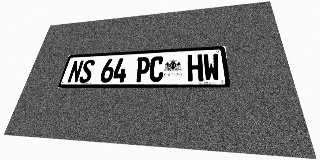4: (112, 58, 129, 82)
6: (99, 58, 116, 83)
C: (149, 56, 164, 82)
H: (187, 54, 204, 81)
N: (67, 60, 84, 83)
P: (134, 57, 150, 82)
S: (78, 59, 96, 83)
W: (203, 53, 221, 81)
